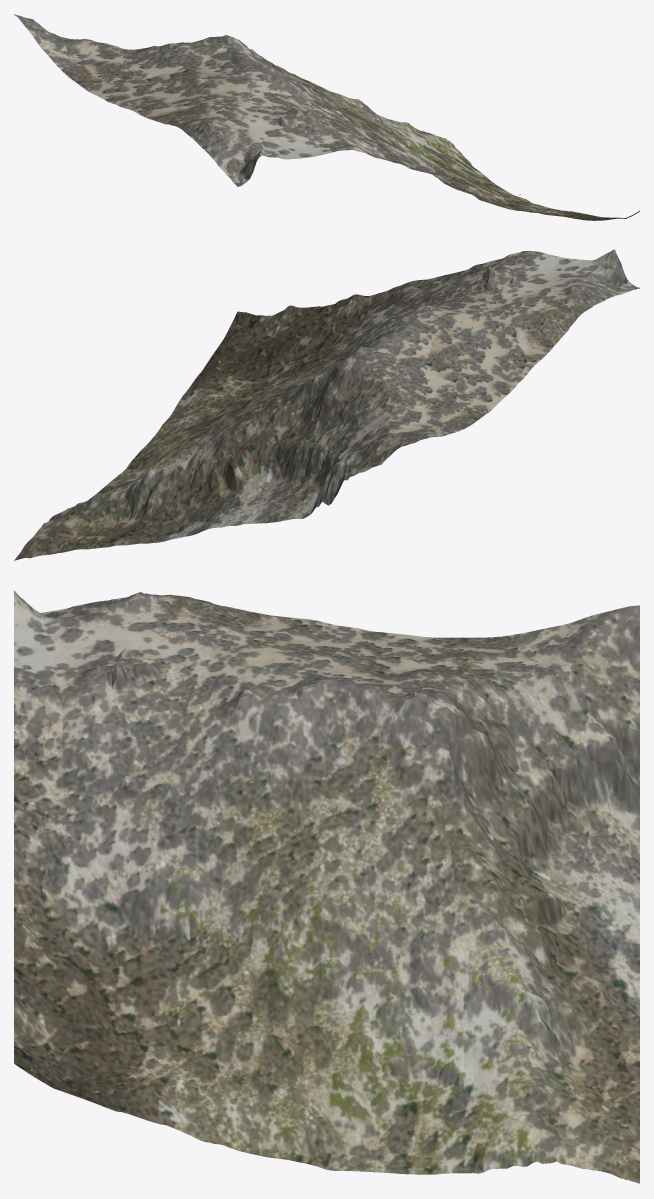
3 views of the same model, one above another, from view 1: azimuth 30°, elevation 25°; view 2: azimuth 150°, elevation 25°; view 3: azimuth 270°, elevation 25° (orthographic). The views are drawn at different scales.
Size of the model in its own units: 500 by 286 by 481.
1 material, 1 textured.
